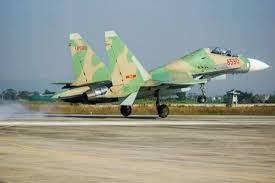maybay_muctieu: (34, 29, 275, 112)
